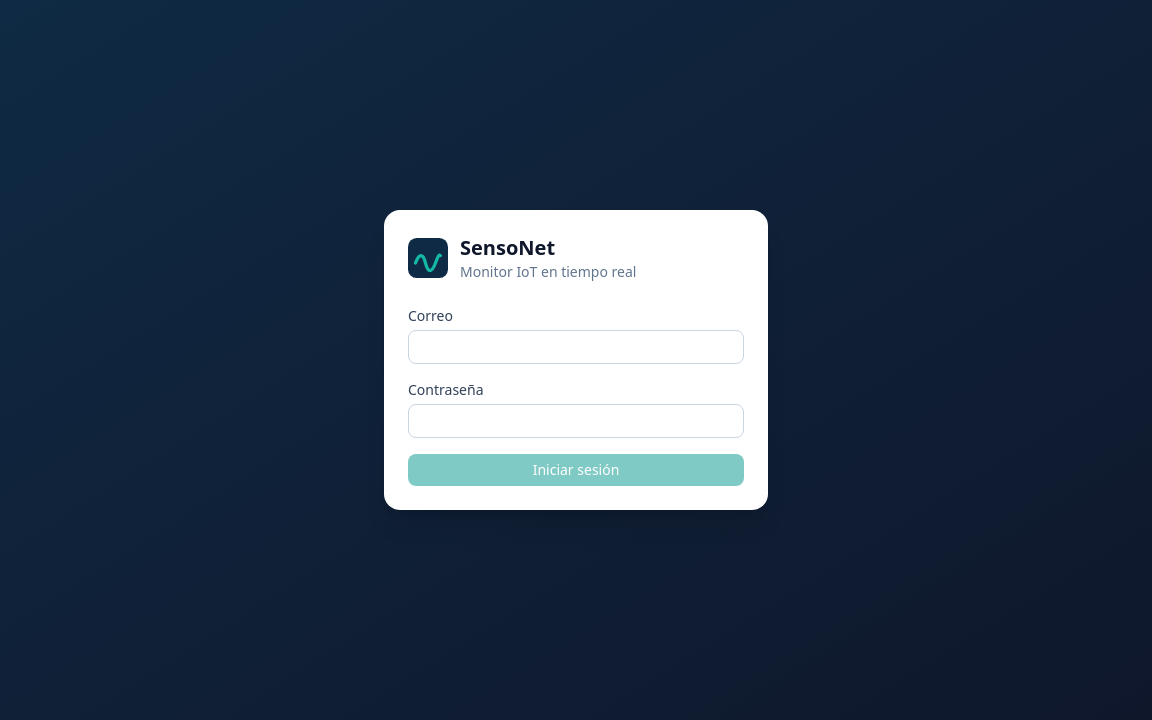
Scenario: LoginPage › muestra el error del servidor cuando las credenciales son incorrectas
Type "admin@x.co" into the field labelled "Correo". click: (576, 347)
box: [408, 330, 744, 364]
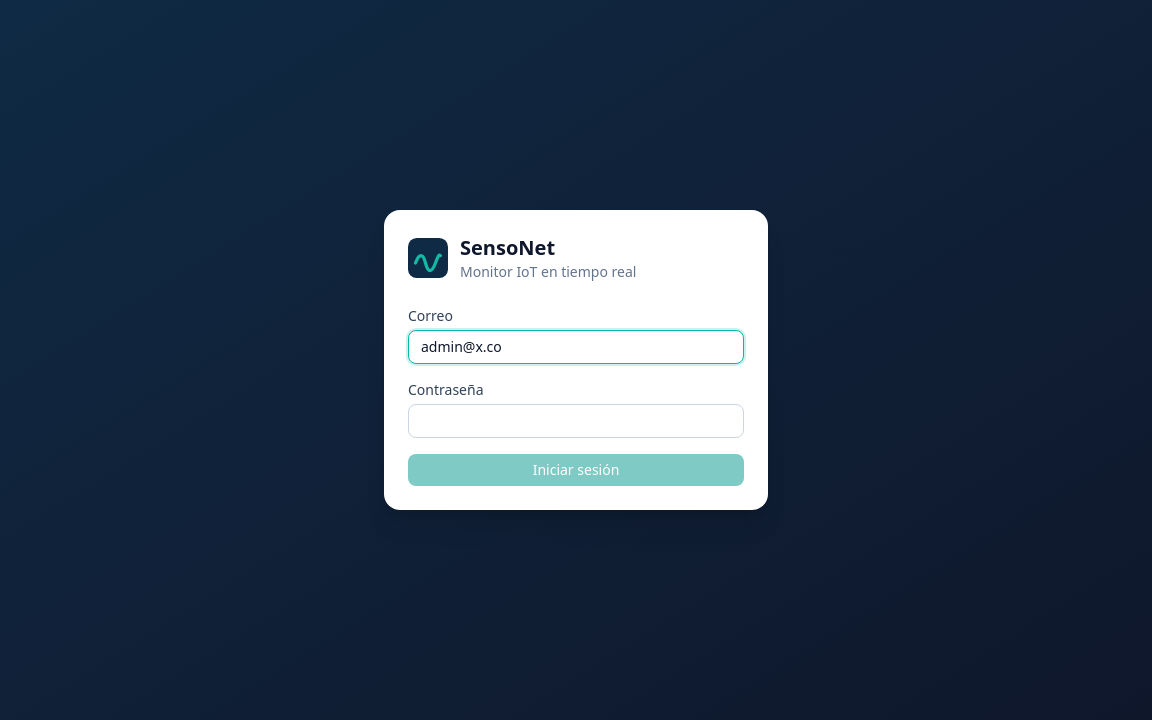
Type "mala" into the password field labelled "Contraseña". click: (576, 421)
box: [408, 404, 744, 438]
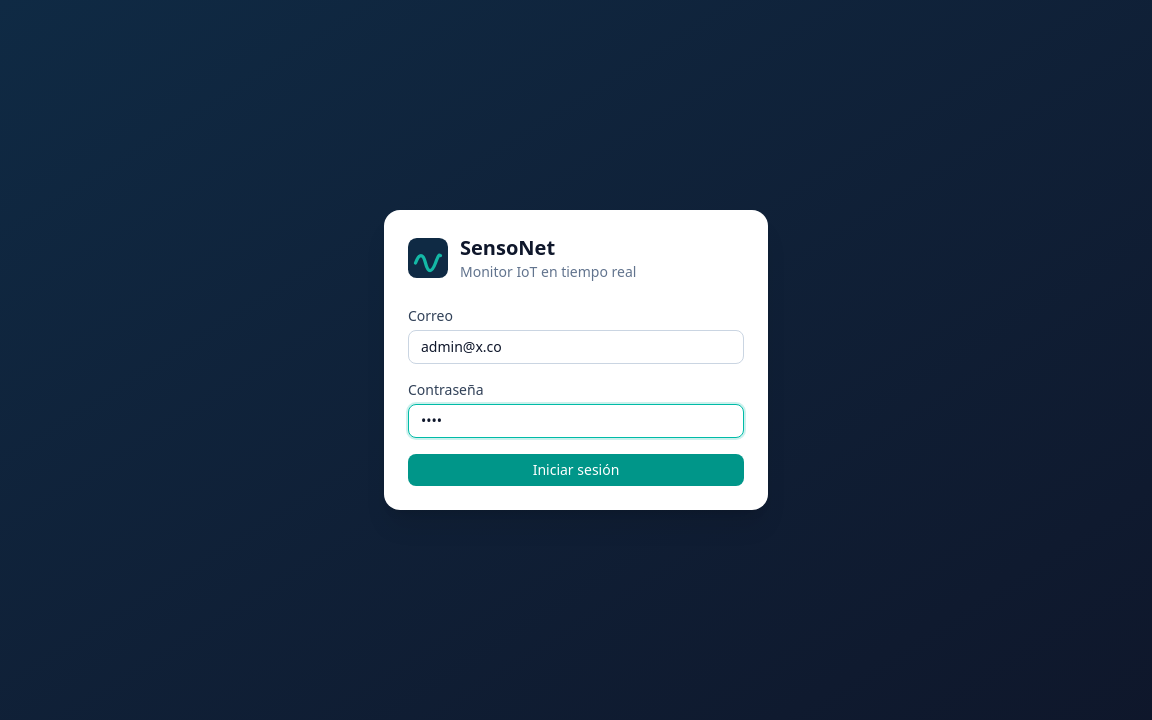
Click the button "Iniciar sesión". click: (576, 470)
box: [408, 454, 744, 486]
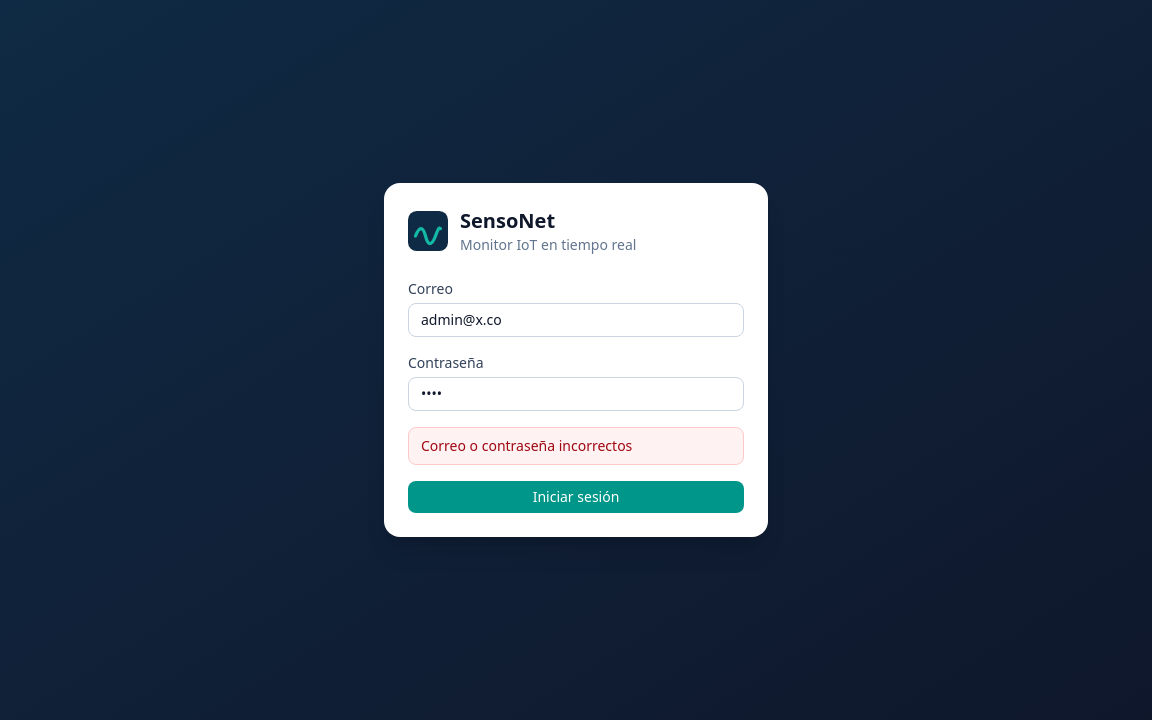
Now the message reads "Correo o contraseña incorrectos", box [421, 436, 632, 455]
